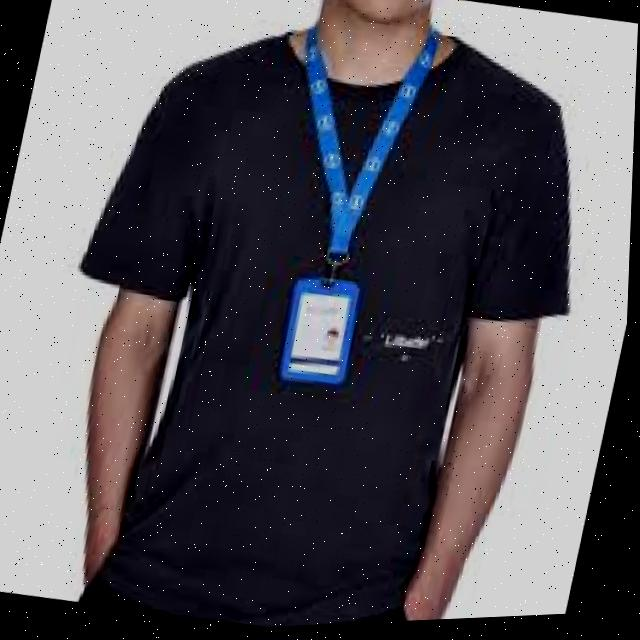id_card: (228, 18, 455, 412)
